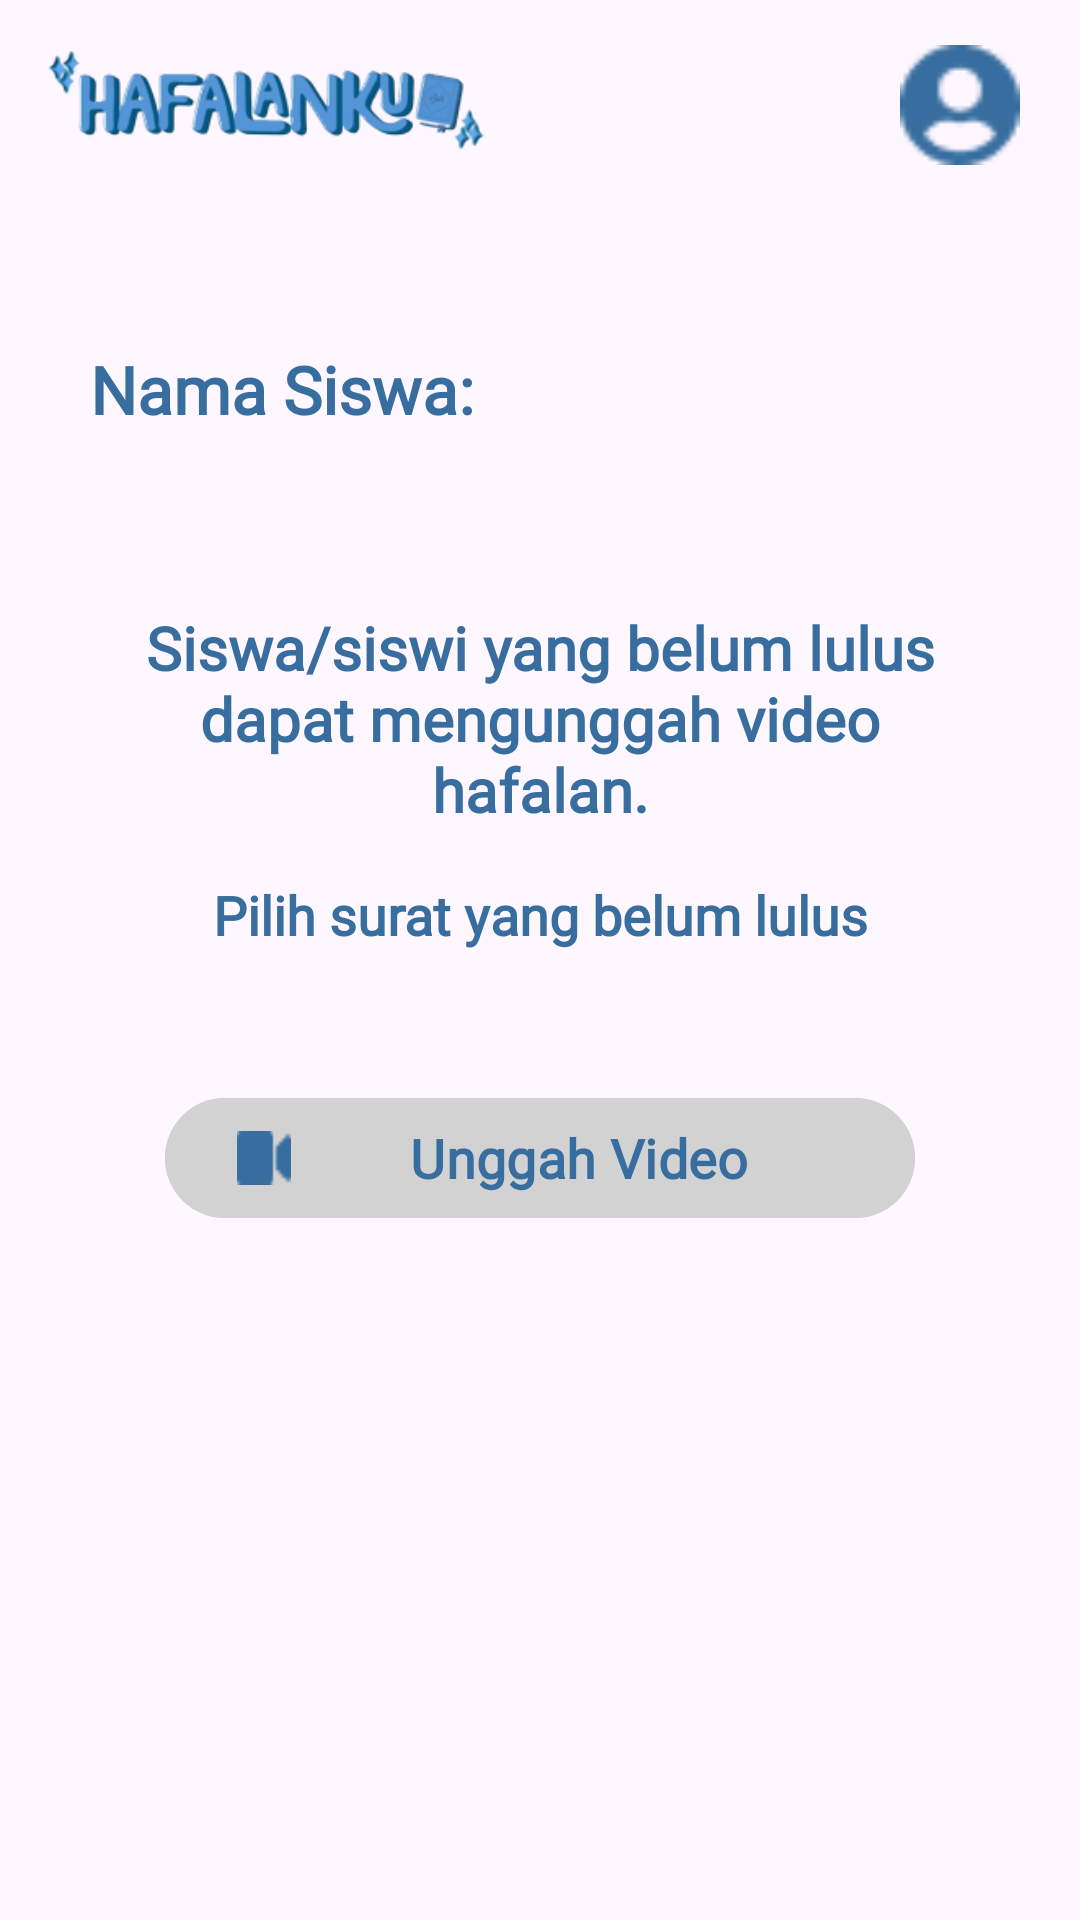

Where icons sit on this 1080*1920 app screen, as (x1, y1, x2, y2):
profile: (900, 45, 1020, 165)
